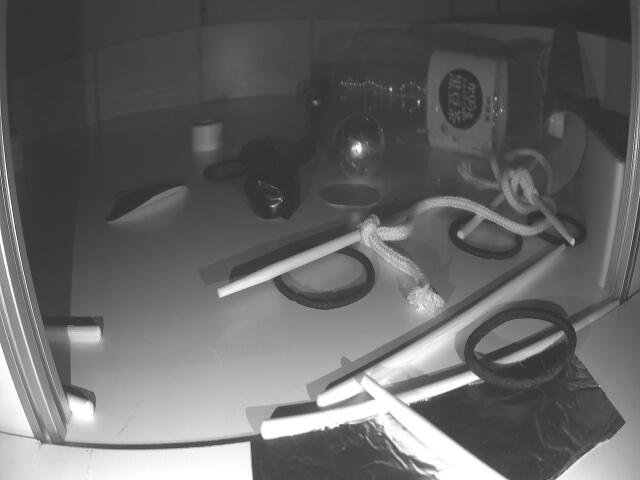Live: (334, 116, 381, 177), (300, 85, 324, 120)
Point: (577, 118, 632, 288)
